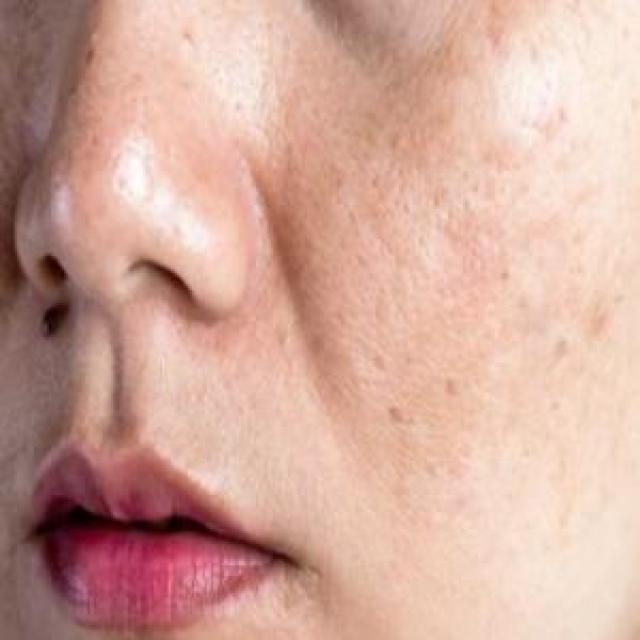Oily-Skin: (39, 20, 195, 290)
